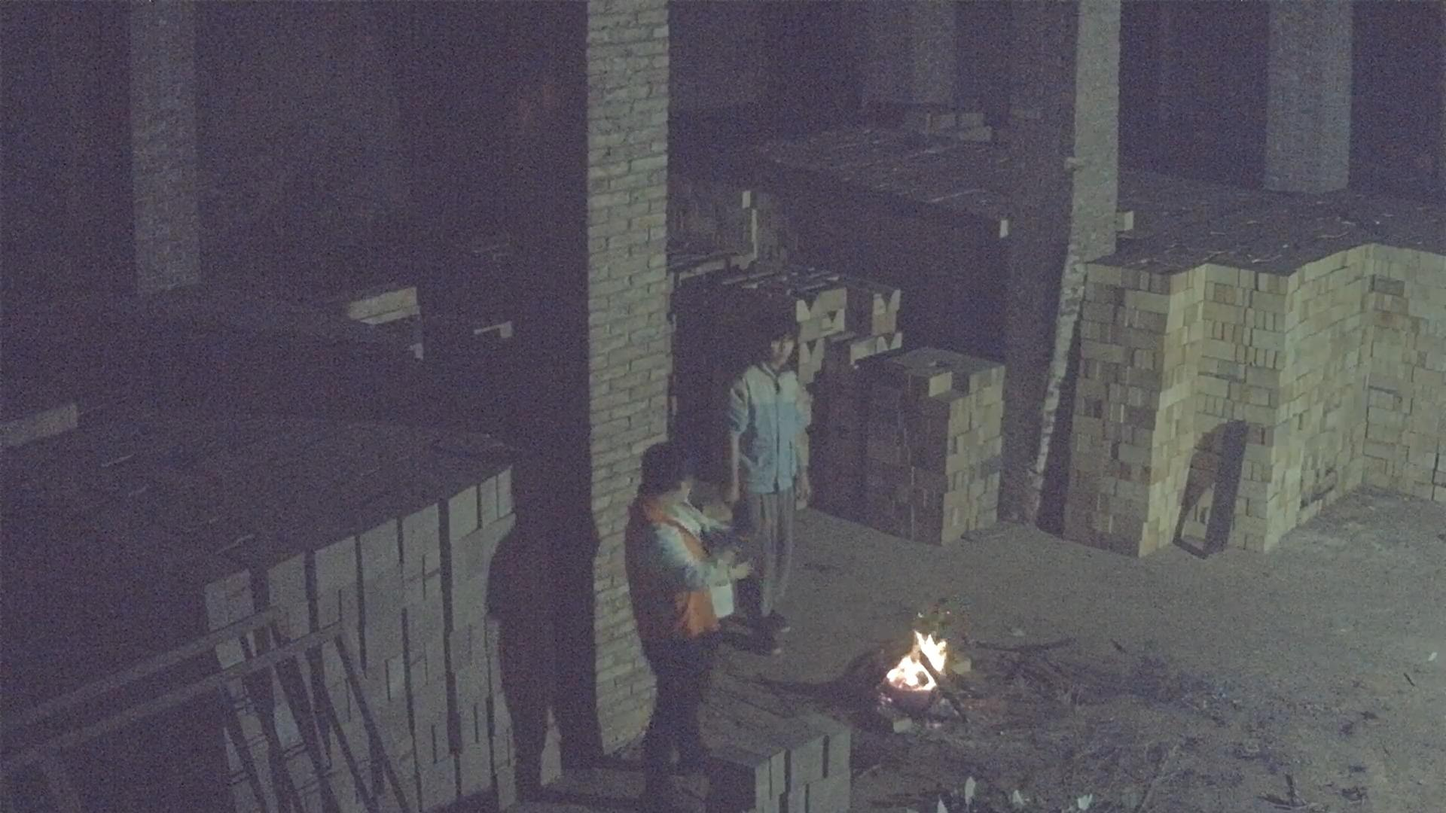fire: (882, 633, 954, 708)
